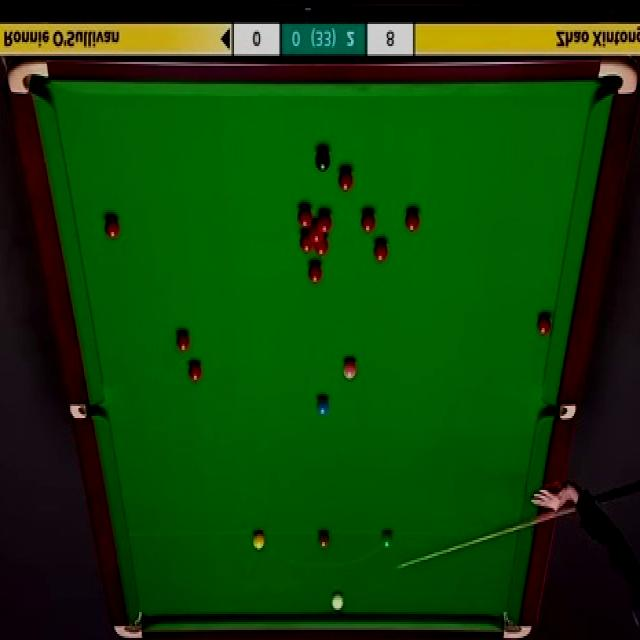pocket: (598, 59, 636, 94), (9, 63, 50, 93), (501, 612, 532, 637), (115, 612, 144, 638), (71, 400, 103, 421), (542, 400, 575, 420)
